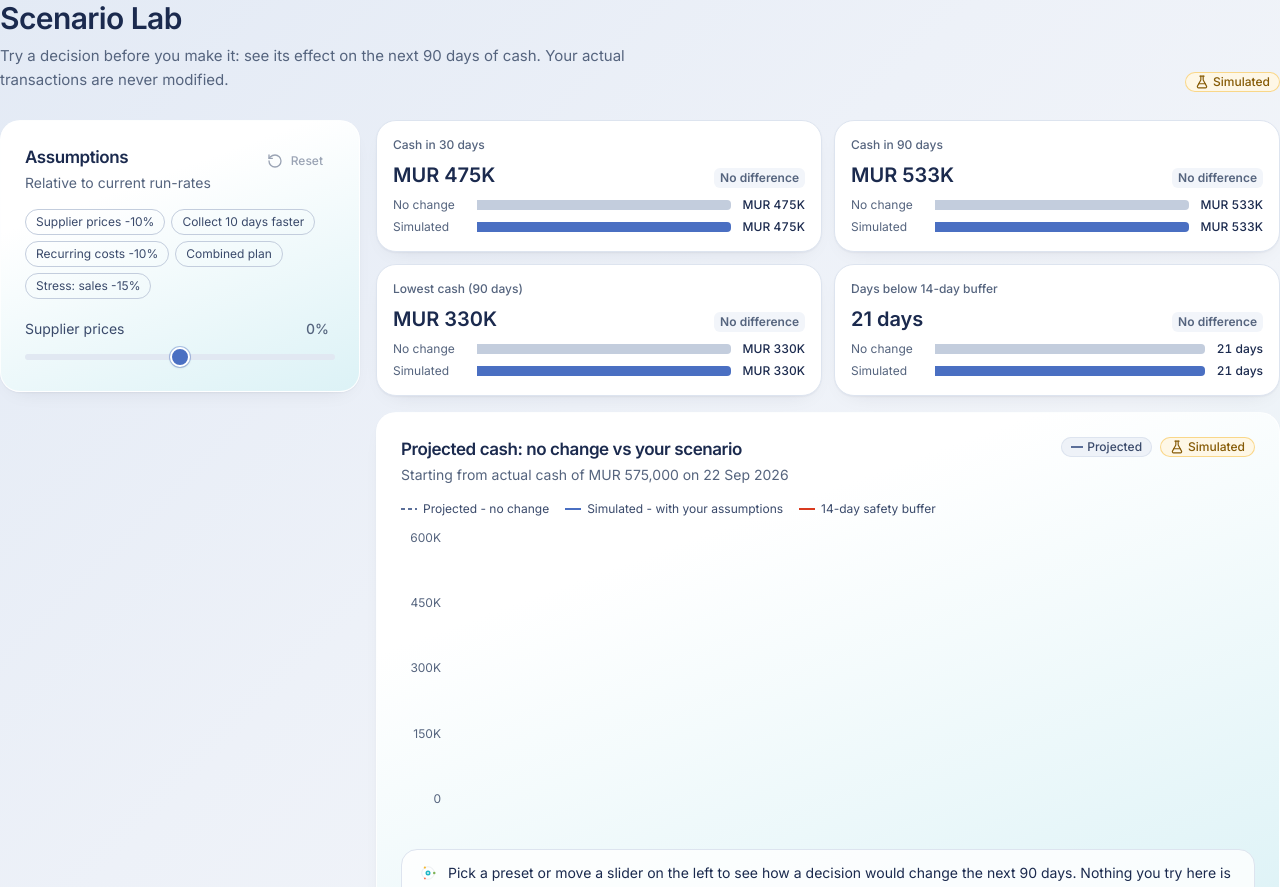
Scenario Lab › sends assumptions to the simulator and labels results as simulated
The image size is (1280, 887).
expect the text "Cash in 90 days" is shown: met, box x1=851 y1=137 x2=943 y2=152
Click the button "Supplier prices -10%". click: (95, 222)
box: x1=25 y1=209 x2=165 y2=235
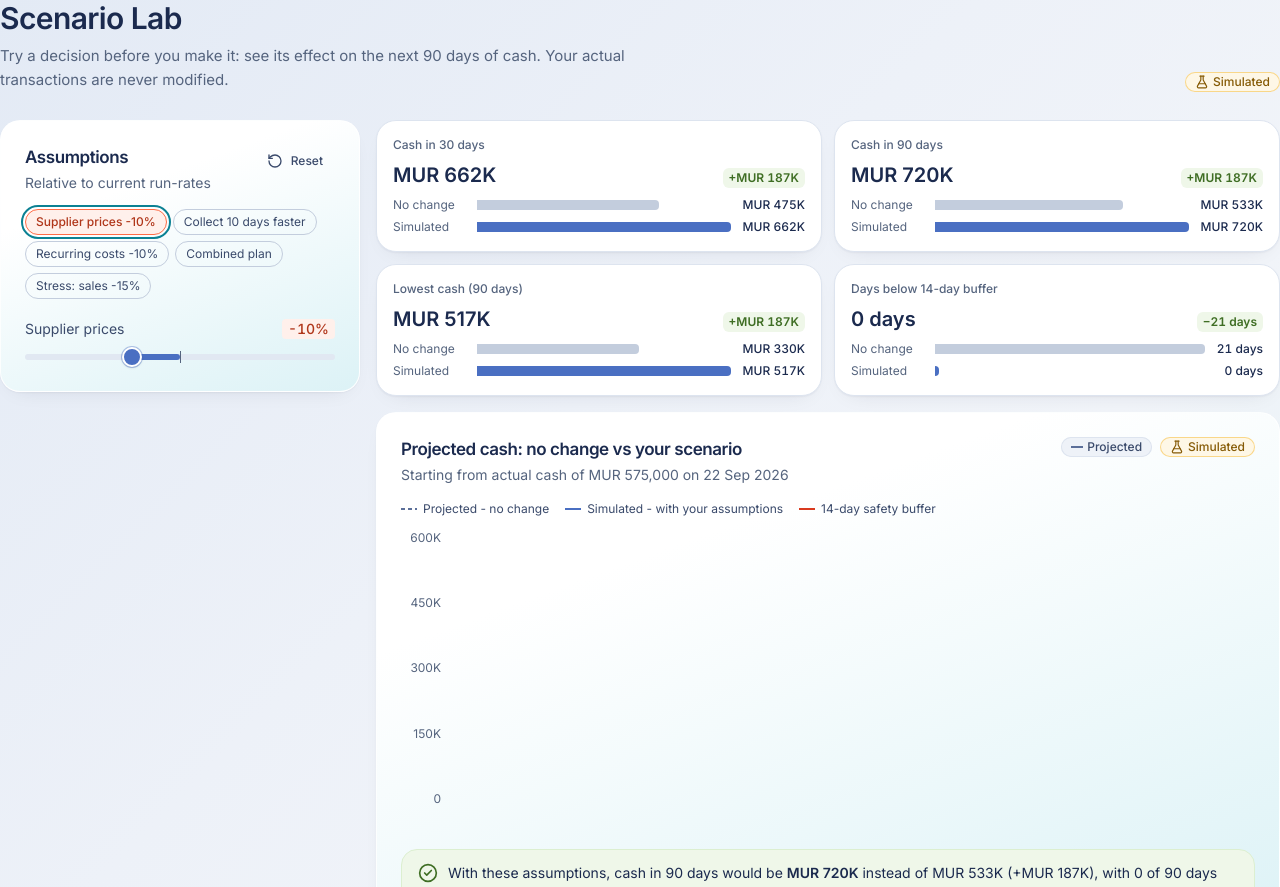
expect the 1st text "Simulated" is shown: met, box x1=1185 y1=72 x2=1279 y2=92
expect the text "+MUR 187K" below "Cash in 30 days" is shown: met, box x1=728 y1=170 x2=799 y2=185
